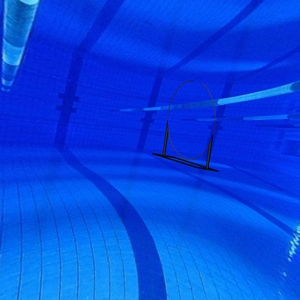circle: (151, 78, 222, 176)
